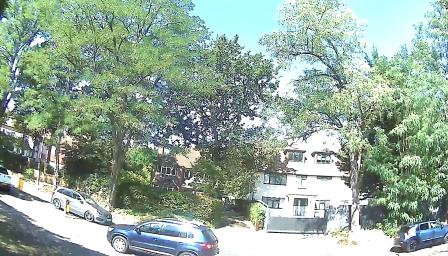Cars: (114, 199, 220, 251), (393, 196, 448, 254), (52, 185, 111, 225)
